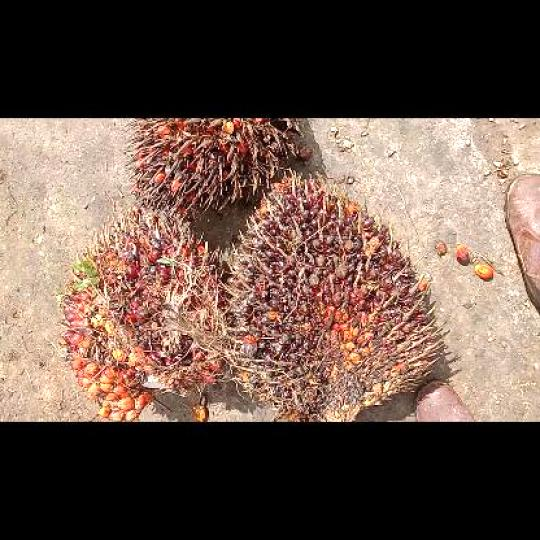kurang masak: (225, 175, 445, 420)
masak: (59, 208, 229, 420)
terlalu masak: (128, 118, 311, 219)
